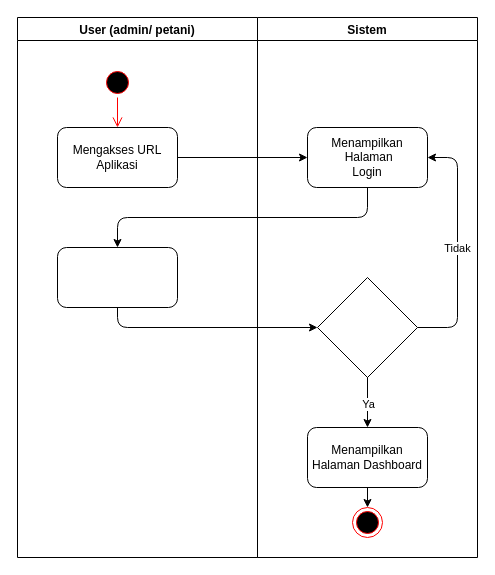
Image size: 495x575. Some labels were removed from this diagram. The shapes that lost their labels are listed below. From the top down, each one's box as (x1, y1, x2, y2) in pixels, then its label:
(56, 246, 178, 308): Memasukkan username & password
(316, 276, 418, 378): Login sukses?
